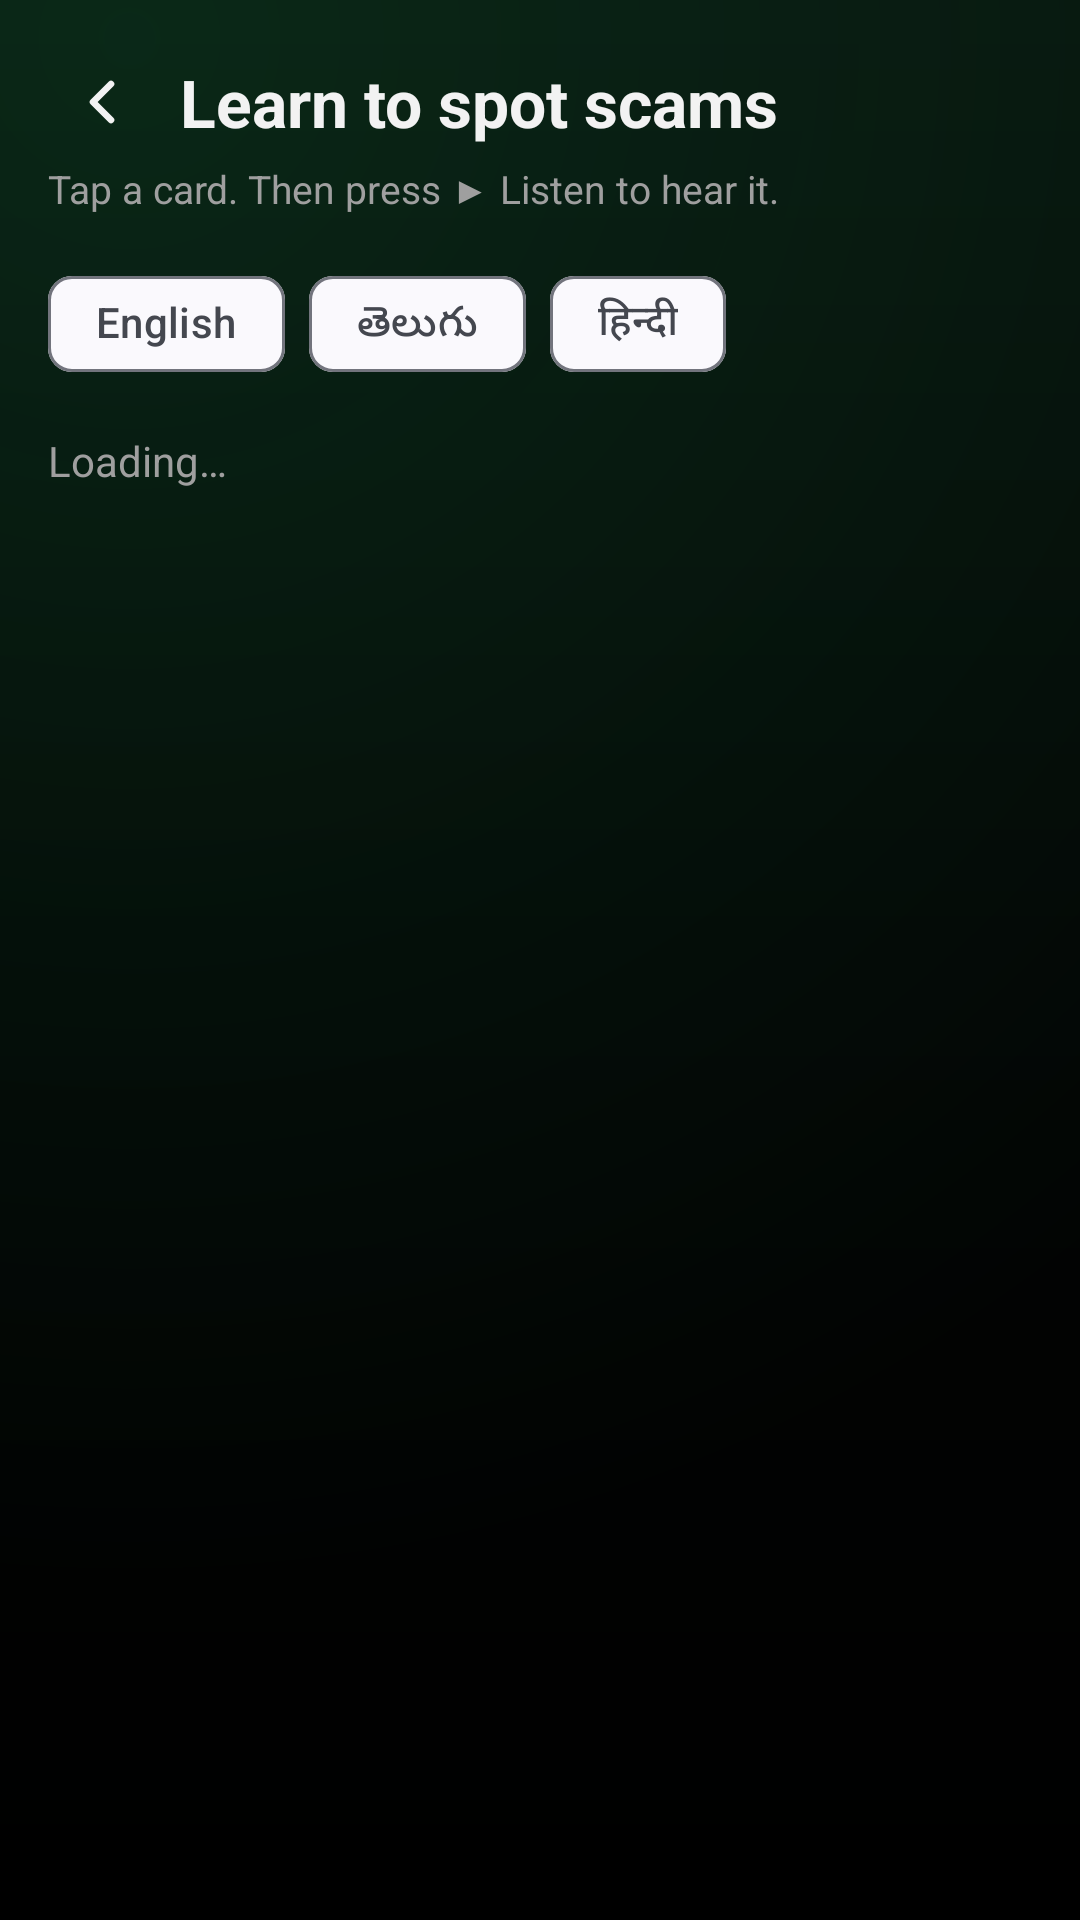

Where to tap for icons on this 1080 x 1920 app screen, as [x,y]:
Back: [102,102]
